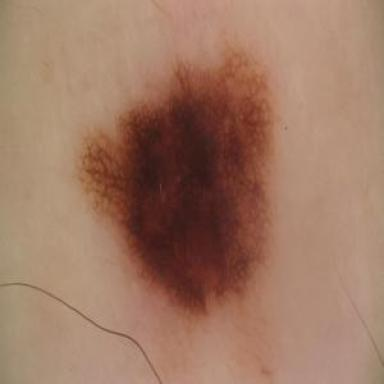Melanoma: (83, 47, 271, 312)
